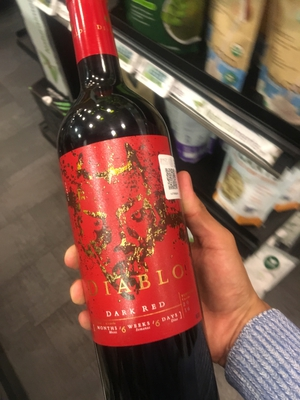diablo dark red: (39, 13, 212, 400)
